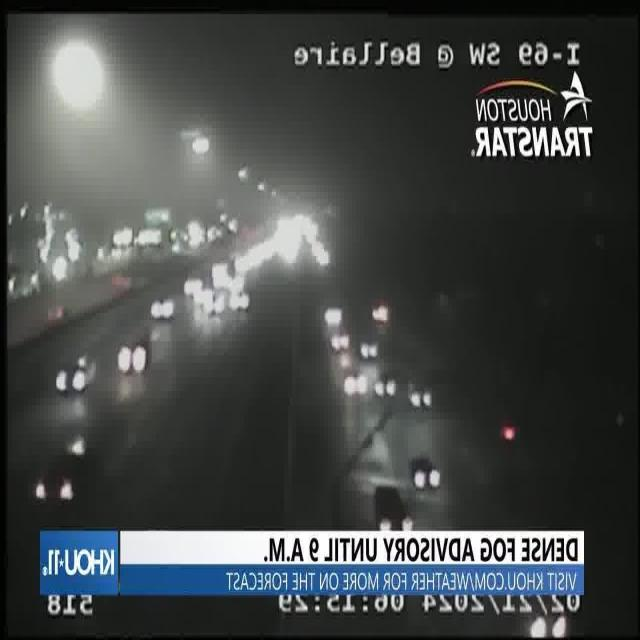Car: (32, 432, 108, 524), (53, 347, 97, 402), (114, 330, 152, 384), (409, 445, 442, 496), (405, 376, 438, 413), (146, 291, 177, 326), (357, 338, 382, 370), (374, 368, 396, 403), (341, 370, 368, 398), (328, 329, 352, 354)
